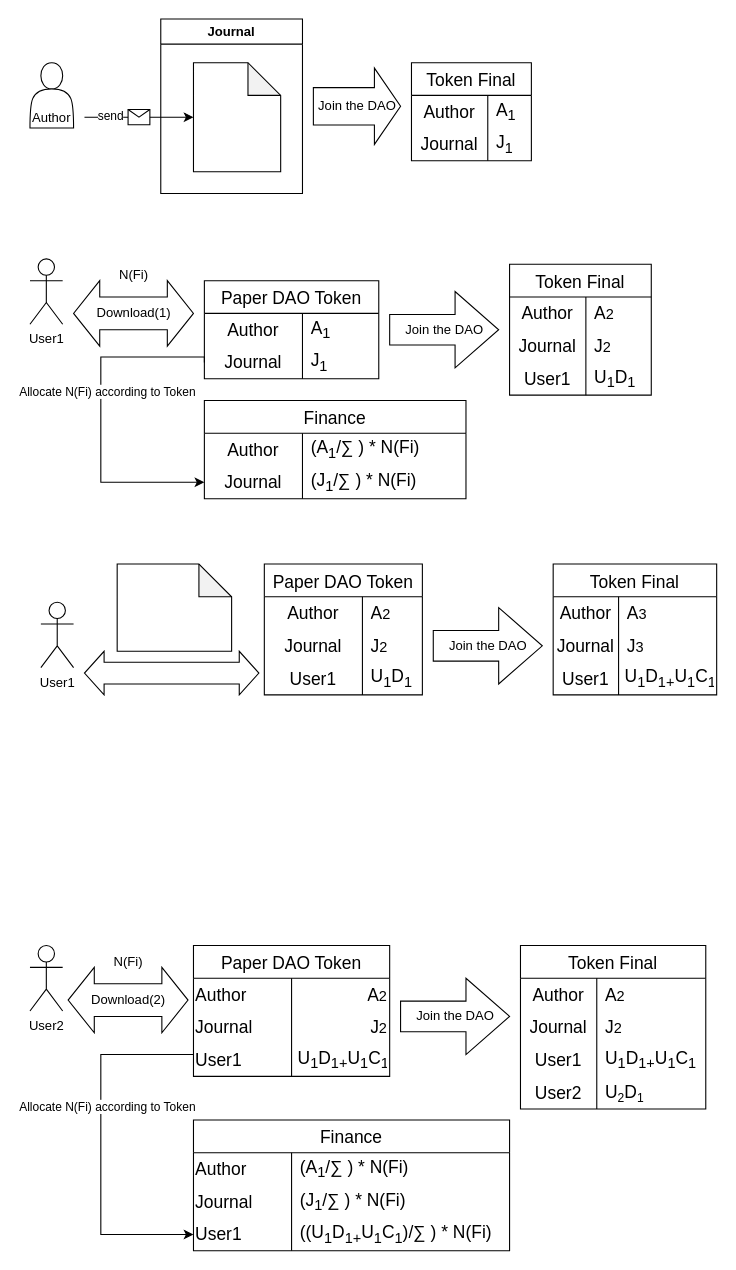
This 736x1270 diagram has some shape labels left out. The centre of each missing label's shape, as x and y in pixels:
"Cited(1)" belongs at (171,672).
"Downloaded Paper" belongs at (174,607).
"Paper" belongs at (236,117).
